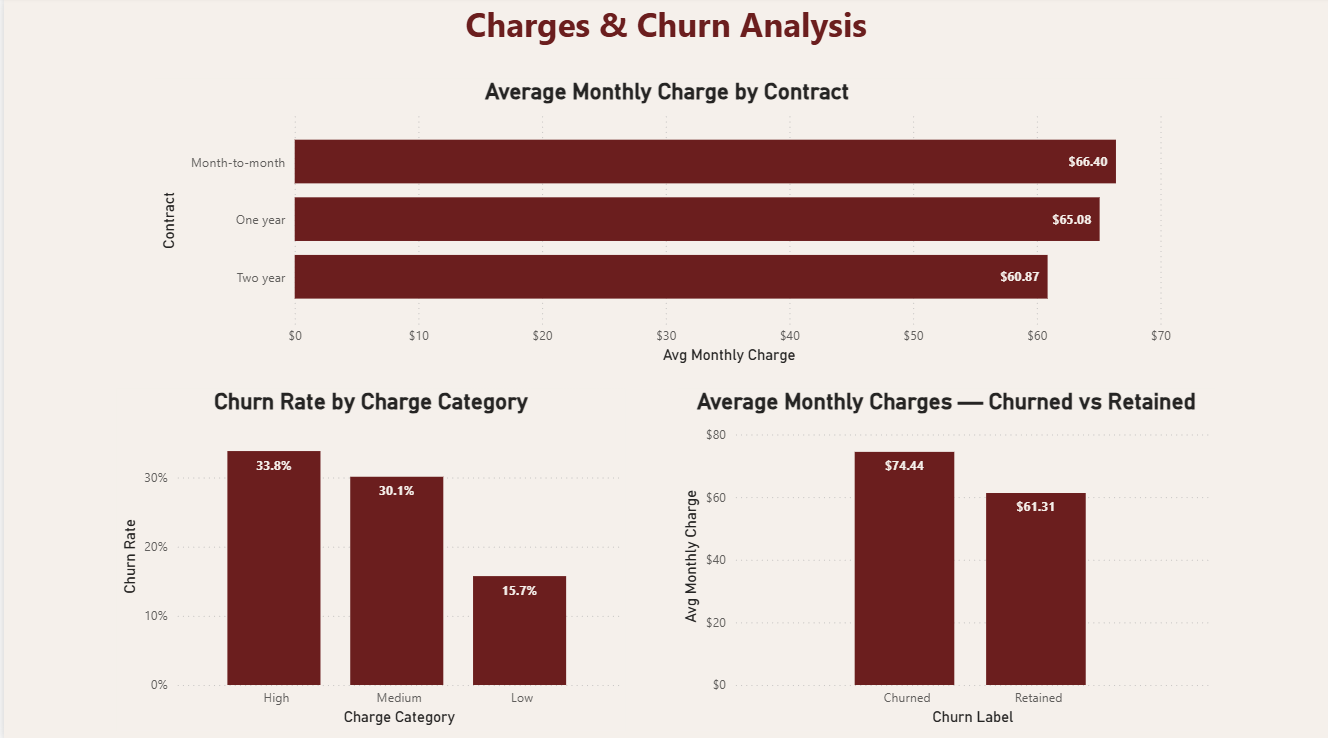

The page's visual inventory and layout, read from the dashboard file:
{"tool":"powerbi","page":{"name":"Charges & Churn Analysis ","canvas":[1280,720],"ordinal":3},"visuals":[{"type":"clusteredBarChart","title":"Average Monthly Charge by Contract","fields":{"Y":["telco_churn_cleaned.Avg Monthly Charge"],"Category":["telco_churn_cleaned.Contract"]},"box":[145.5,79.5,988,280],"z":0},{"type":"clusteredColumnChart","fields":{"Category":["telco_churn_cleaned.Charge Category"],"Y":["telco_churn_cleaned.Churn Rate"]},"box":[108.8,379.1,491.6,330.2],"z":1000},{"type":"clusteredColumnChart","title":" Average Monthly Charges — Churned vs Retained","fields":{"Category":["telco_churn_cleaned.Churn Label"],"Y":["telco_churn_cleaned.Avg Monthly Charge"]},"box":[650.5,379.1,518.5,330.2],"z":2000},{"type":"textbox","box":[432.9,0,412.1,59.9],"z":3000}]}

Visuals, with their boxes in screenshot pixels (x1, y1, x2, y2), scaled from the page's 1280x720 canvas onto the 1328x738 screenshot:
"Average Monthly Charge by Contract" clusteredBarChart: crop(151, 81, 1176, 368)
clusteredColumnChart - telco_churn_cleaned.Charge Category x telco_churn_cleaned.Churn Rate: crop(113, 389, 623, 727)
" Average Monthly Charges — Churned vs Retained" clusteredColumnChart: crop(675, 389, 1213, 727)
textbox: crop(449, 0, 877, 61)
